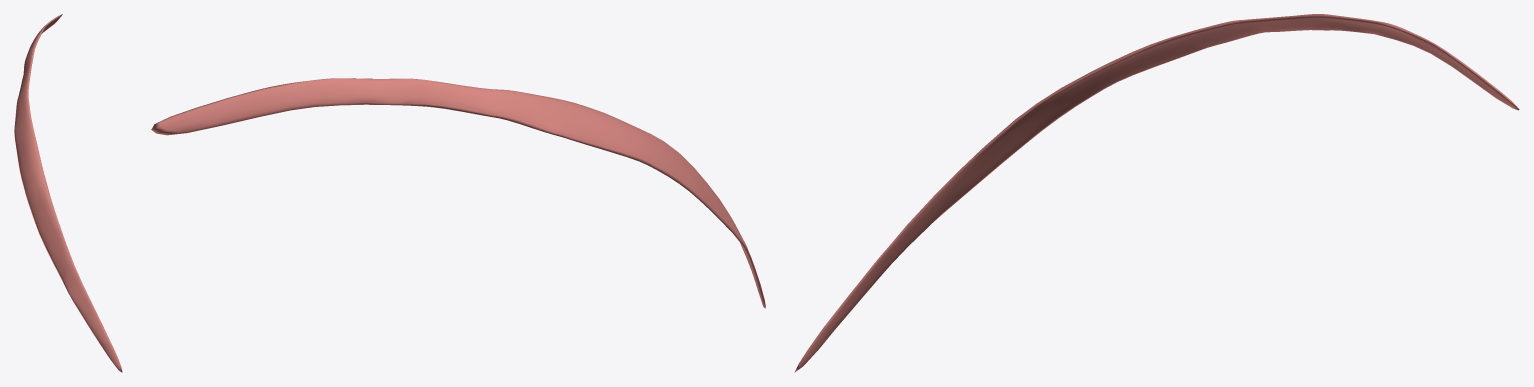
3 views of the same model, side by side, from view 1: azimuth 30°, elevation 25°; view 2: azimuth 150°, elevation 25°; view 3: azimuth 270°, elevation 25° (orthographic). The views are drawn at different scales.
Visible parts, largest first — view 1: ZA_a36ca61aa93f4d10; view 2: ZA_a36ca61aa93f4d10; view 3: ZA_a36ca61aa93f4d10.
Part boxes in pixels (left/top/right/bottom): ZA_a36ca61aa93f4d10: left=14, top=14, right=122, bottom=372; ZA_a36ca61aa93f4d10: left=151, top=78, right=765, bottom=308; ZA_a36ca61aa93f4d10: left=794, top=14, right=1519, bottom=372.
Bounding box in the file's own units: 0.0418 × 0.0562 × 0.0893.
